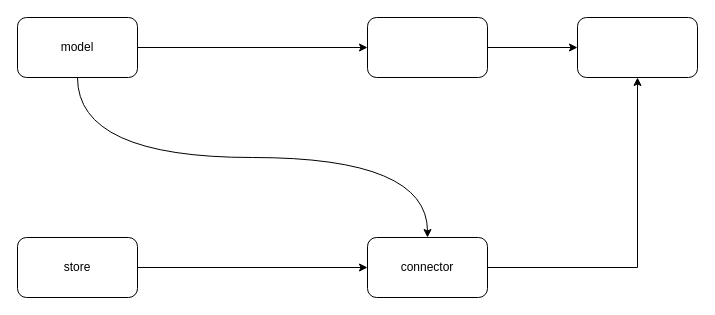
The diagram is 715 pixels wide and 315 high, and some of its shapes have lost their labels. Each missing label, with the box of its shape:
DB: (576, 16, 698, 78)
default connector: (366, 16, 488, 78)
